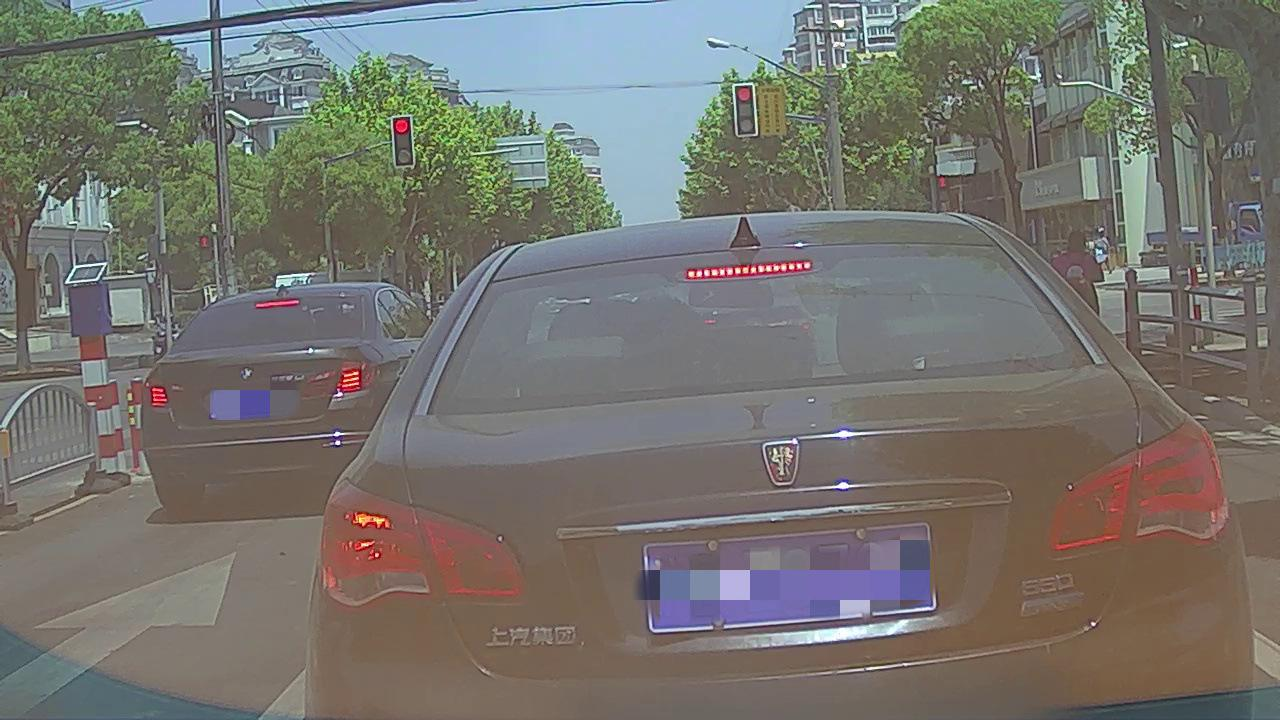traffic_light: (735, 80, 756, 133), (393, 118, 413, 165)
